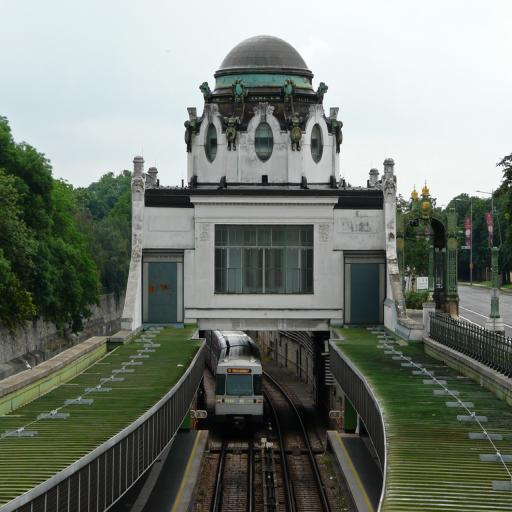Silberpfeil: (207, 331, 265, 419)
